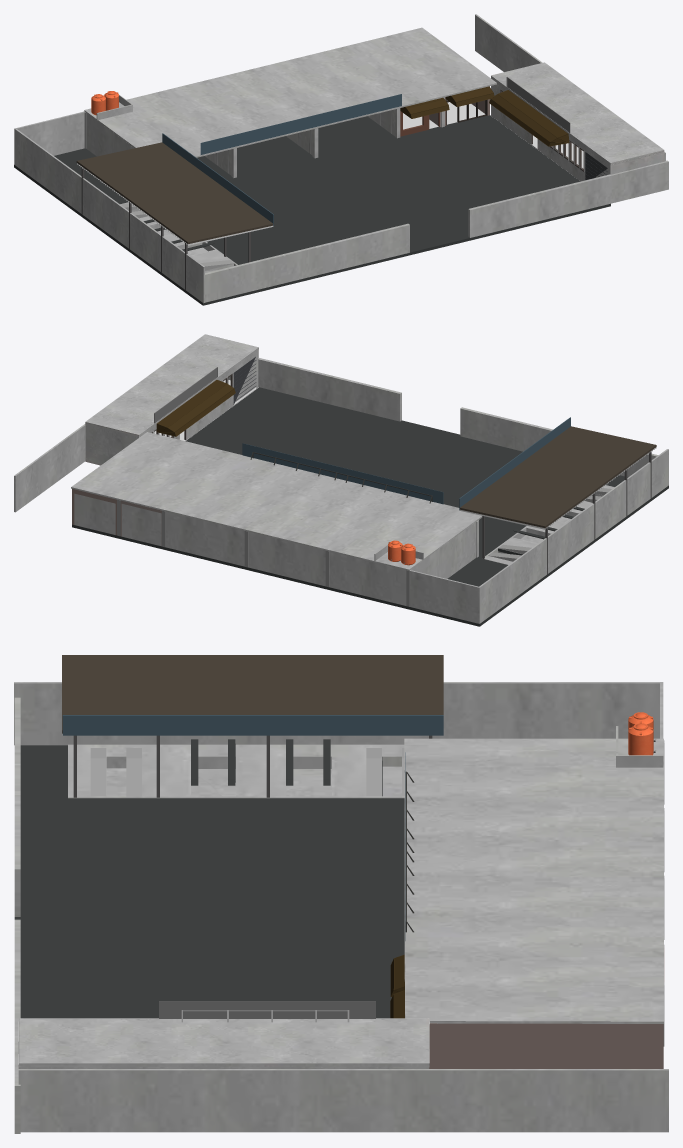
Rendered from car-wash.lod0.glb.
3 views of the same model, one above another, from view 1: azimuth 30°, elevation 25°; view 2: azimuth 150°, elevation 25°; view 3: azimuth 270°, elevation 25° (orthographic). The views are drawn at different scales.
Parts seen in each view (by area): view 1: Cube.001_Baked_Cube.001_Baked.006_0, Plane.003_Baked_Plane.003_Baked.006_0, Cube.027_Baked_Cube.027_Baked.006_0, Cylinder.001_Baked_Cylinder.001_Baked.006_0; view 2: Plane.003_Baked_Plane.003_Baked.006_0, Cube.001_Baked_Cube.001_Baked.006_0, Cube.027_Baked_Cube.027_Baked.006_0, Cylinder.001_Baked_Cylinder.001_Baked.006_0; view 3: Plane.003_Baked_Plane.003_Baked.006_0, Cube.001_Baked_Cube.001_Baked.006_0, Cube.027_Baked_Cube.027_Baked.006_0, Cylinder.001_Baked_Cylinder.001_Baked.006_0.
Part boxes in pixels (box(x1,y1,x2,y2)): Cube.001_Baked_Cube.001_Baked.006_0: box(14, 77, 610, 305); Plane.003_Baked_Plane.003_Baked.006_0: box(14, 14, 668, 303); Cube.027_Baked_Cube.027_Baked.006_0: box(491, 62, 664, 181); Cylinder.001_Baked_Cylinder.001_Baked.006_0: box(91, 91, 118, 115); Plane.003_Baked_Plane.003_Baked.006_0: box(14, 358, 668, 623); Cube.001_Baked_Cube.001_Baked.006_0: box(72, 357, 668, 626); Cube.027_Baked_Cube.027_Baked.006_0: box(85, 334, 258, 465); Cylinder.001_Baked_Cylinder.001_Baked.006_0: box(388, 540, 415, 565); Plane.003_Baked_Plane.003_Baked.006_0: box(14, 682, 668, 1133); Cube.001_Baked_Cube.001_Baked.006_0: box(14, 655, 664, 1068); Cube.027_Baked_Cube.027_Baked.006_0: box(18, 1018, 429, 1068); Cylinder.001_Baked_Cylinder.001_Baked.006_0: box(628, 712, 655, 755).
Size of the model in its own units: 56 by 7.42 by 39.63.
6 materials, 5 textured.
